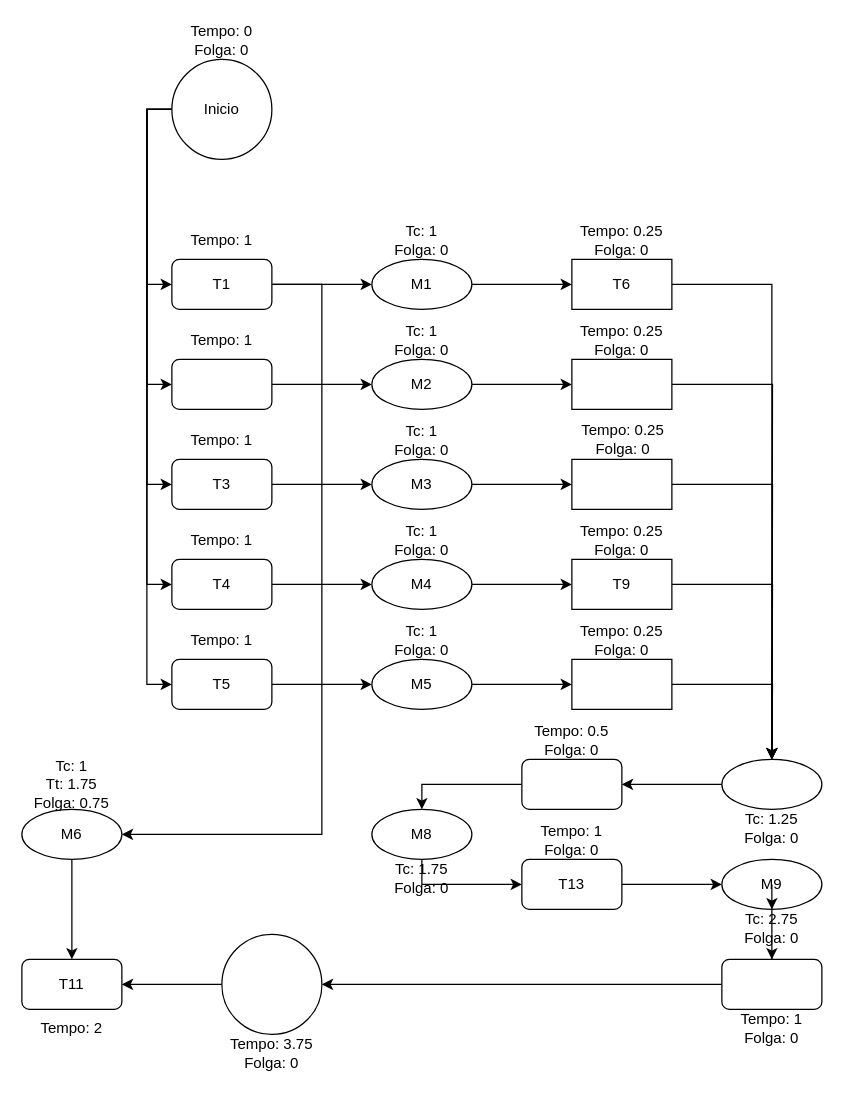
The diagram is 844 pixels wide and 1093 high, and some of its shapes have lost their labels. The centre of each missing label's shape, as x and y in pixels:
"Fim" belongs at pixel 271 983.
"M7" belongs at pixel 771 783.
"T10" belongs at pixel 621 683.
"T12" belongs at pixel 571 783.
"T14" belongs at pixel 771 983.
"T2" belongs at pixel 221 383.
"T7" belongs at pixel 621 383.
"T8" belongs at pixel 621 483.
